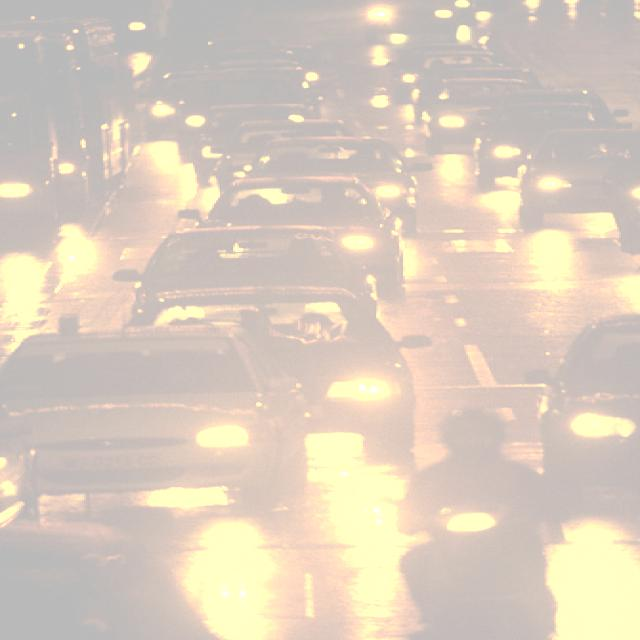Motorbike: (401, 487, 559, 640)
